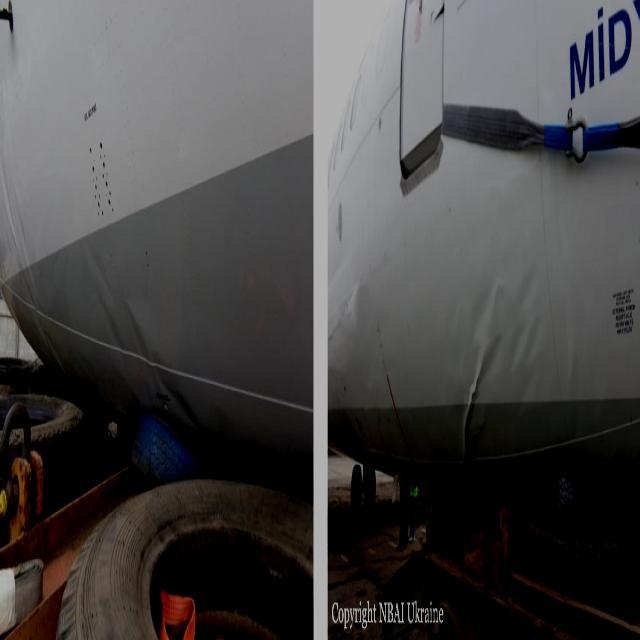dent: (79, 230, 188, 431), (462, 269, 542, 462)
